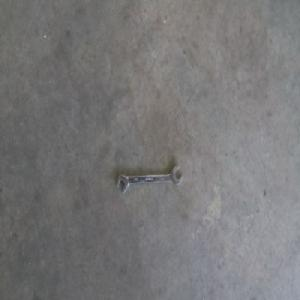Wrench: (115, 163, 182, 191)
